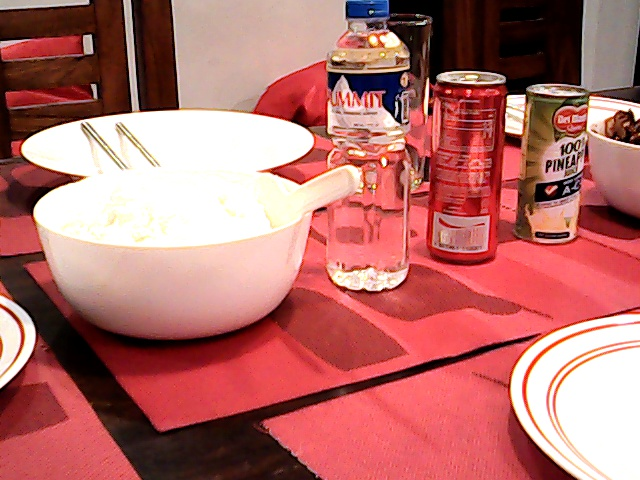Cola: (429, 67, 504, 269)
Pine Juice: (515, 76, 584, 247)
Summit Water: (326, 2, 410, 288)
